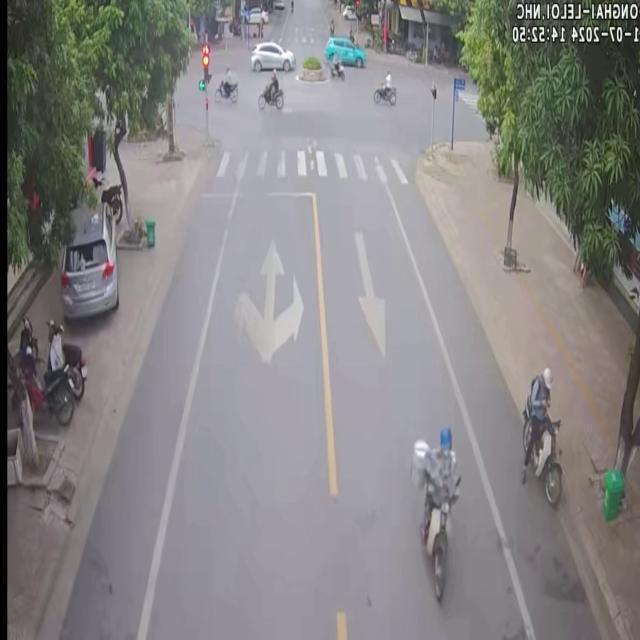car: (58, 200, 117, 318), (249, 40, 294, 69), (323, 34, 364, 65)
motobike: (409, 425, 459, 600), (519, 365, 560, 504), (14, 351, 73, 422), (46, 318, 86, 398), (257, 67, 282, 108), (213, 67, 236, 100), (372, 71, 394, 105)
red_light: (202, 44, 209, 83)
stop_line: (198, 188, 313, 195)
